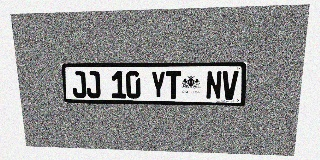0: (125, 71, 141, 99)
1: (111, 71, 126, 98)
J: (71, 71, 87, 98), (85, 71, 101, 98)
N: (206, 71, 222, 99)
T: (166, 71, 181, 99)
V: (221, 71, 239, 100)
Y: (151, 71, 166, 99)
